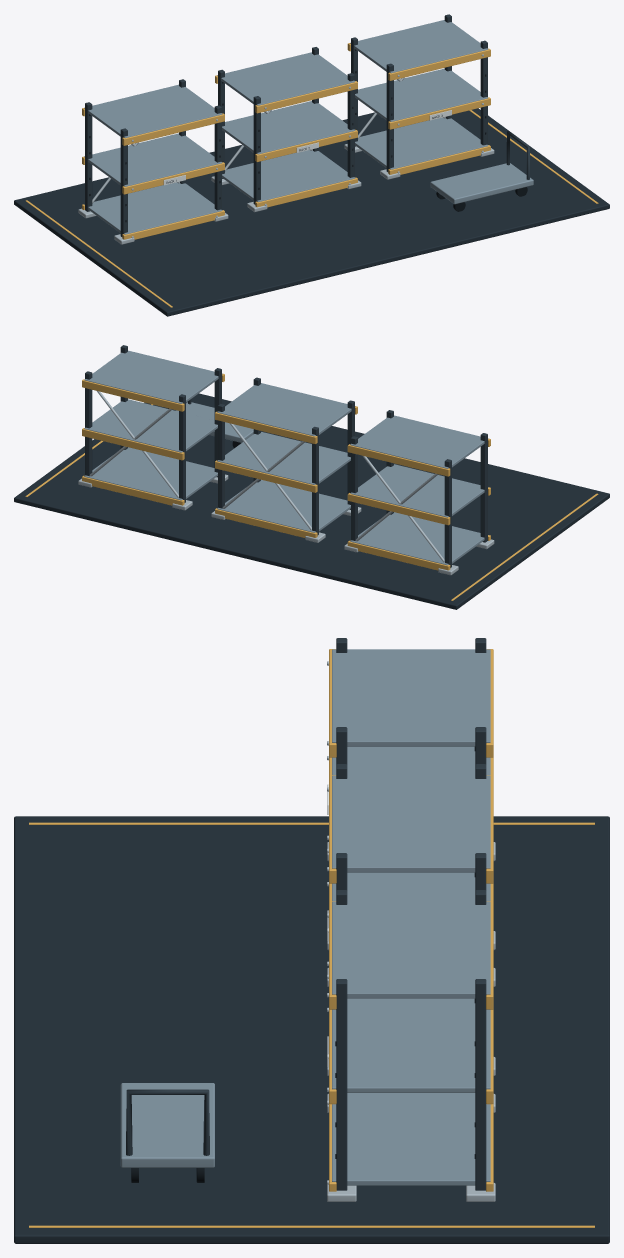
File: storage-racks.glb
3 views of the same model, one above another, from view 1: azimuth 30°, elevation 25°; view 2: azimuth 150°, elevation 25°; view 3: azimuth 270°, elevation 25° (orthographic). The views are drawn at different scales.
Parts seen in each view (by area): view 1: storage_racks_Epoxy_Floor, storage_racks_Brushed_Aluminium, storage_racks_Safety_Amber, storage_racks_Enamel_Graphite, storage_racks_Machined_Steel, storage_racks_Rubber_Seal; view 2: storage_racks_Brushed_Aluminium, storage_racks_Epoxy_Floor, storage_racks_Safety_Amber, storage_racks_Enamel_Graphite, storage_racks_Machined_Steel; view 3: storage_racks_Epoxy_Floor, storage_racks_Brushed_Aluminium, storage_racks_Enamel_Graphite, storage_racks_Safety_Amber, storage_racks_Machined_Steel.
Boxes of the visible parts, bbox=[...] form: storage_racks_Epoxy_Floor: bbox=[14, 108, 609, 316]; storage_racks_Brushed_Aluminium: bbox=[84, 20, 533, 234]; storage_racks_Safety_Amber: bbox=[25, 43, 598, 307]; storage_racks_Enamel_Graphite: bbox=[85, 14, 529, 236]; storage_racks_Machined_Steel: bbox=[78, 54, 494, 244]; storage_racks_Rubber_Seal: bbox=[89, 49, 527, 222]; storage_racks_Brushed_Aluminium: bbox=[84, 350, 488, 565]; storage_racks_Epoxy_Floor: bbox=[14, 393, 609, 609]; storage_racks_Safety_Amber: bbox=[25, 373, 598, 600]; storage_racks_Enamel_Graphite: bbox=[85, 345, 487, 567]; storage_racks_Machined_Steel: bbox=[78, 391, 494, 575]; storage_racks_Epoxy_Floor: bbox=[14, 816, 609, 1243]; storage_racks_Brushed_Aluminium: bbox=[120, 649, 490, 1185]; storage_racks_Enamel_Graphite: bbox=[126, 638, 486, 1190]; storage_racks_Safety_Amber: bbox=[29, 649, 594, 1227]; storage_racks_Machined_Steel: bbox=[327, 661, 495, 1201].
Size of the model in its own units: 10 by 2.49 by 6.
